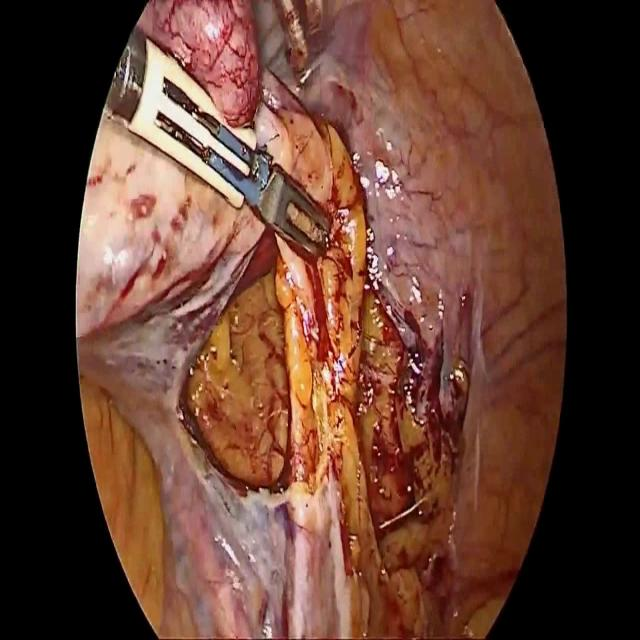surgical-area: (76, 0, 568, 639)
surgical-tool: (104, 26, 331, 259)
